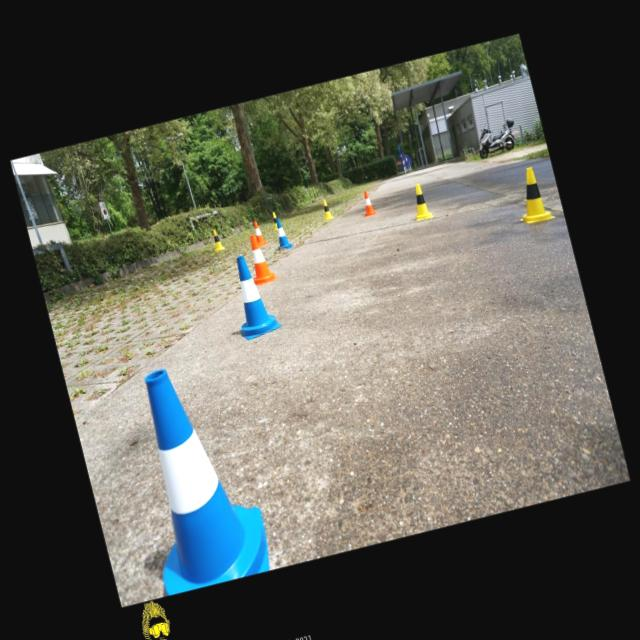blue_cone: (113, 354, 274, 594), (222, 250, 282, 340), (271, 217, 292, 250)
orange_cone: (242, 232, 276, 284), (358, 190, 376, 216), (252, 220, 266, 246)
yellow_cone: (508, 164, 554, 225), (408, 181, 432, 220), (210, 228, 224, 250), (320, 198, 332, 220), (270, 211, 279, 230)
